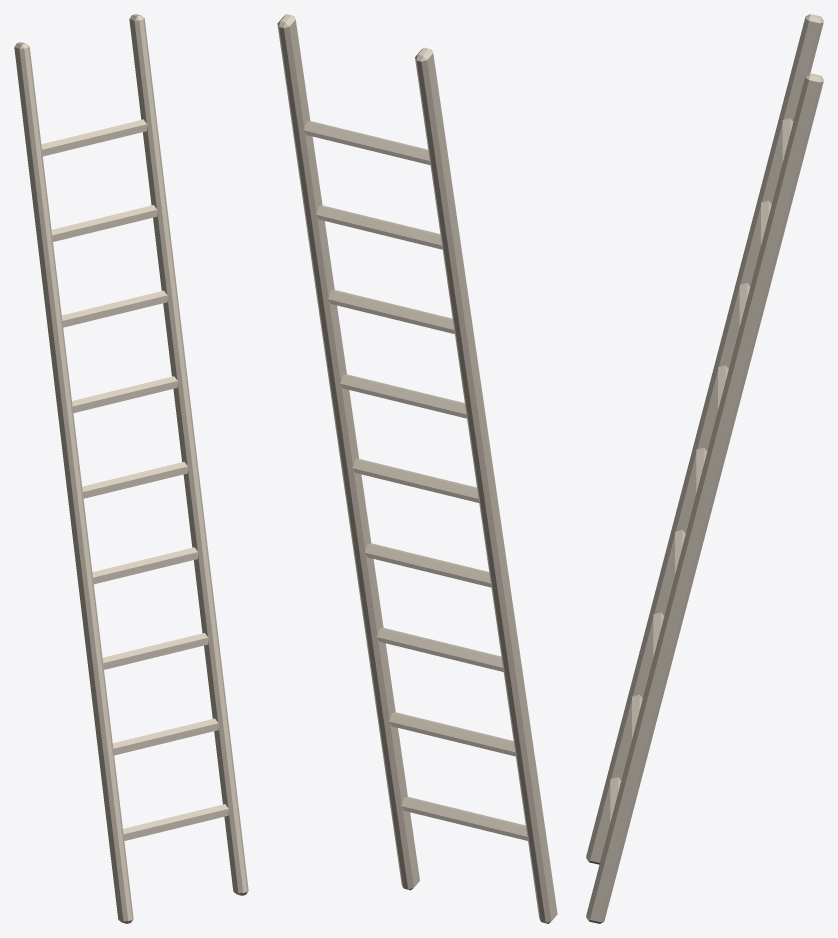
Rendered from SM_VK_Scaffold_Ladder.fbx.
3 renders of one model, left to right at view 1: azimuth 30°, elevation 25°; view 2: azimuth 150°, elevation 25°; view 3: azimuth 270°, elevation 25°, orthographic. The views are drawn at different scales.
Visible parts, largest first — view 1: SM_VK_Scaffold_Ladder.001; view 2: SM_VK_Scaffold_Ladder.001; view 3: SM_VK_Scaffold_Ladder.001.
Boxes of the visible parts, <box> form: SM_VK_Scaffold_Ladder.001: <box>14,14,248,923</box>; SM_VK_Scaffold_Ladder.001: <box>277,14,557,923</box>; SM_VK_Scaffold_Ladder.001: <box>586,14,823,923</box>.
Bounding box in the file's own units: 0.49 × 3.01 × 0.7629.
